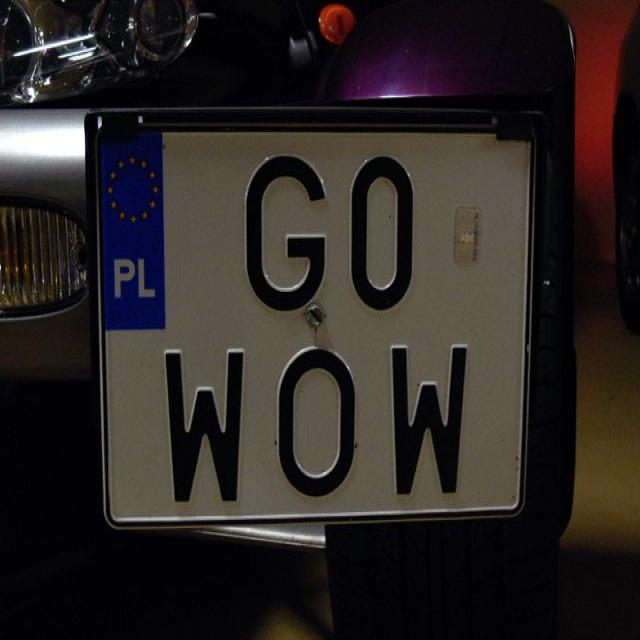pl_license_plate: (101, 128, 528, 511)
